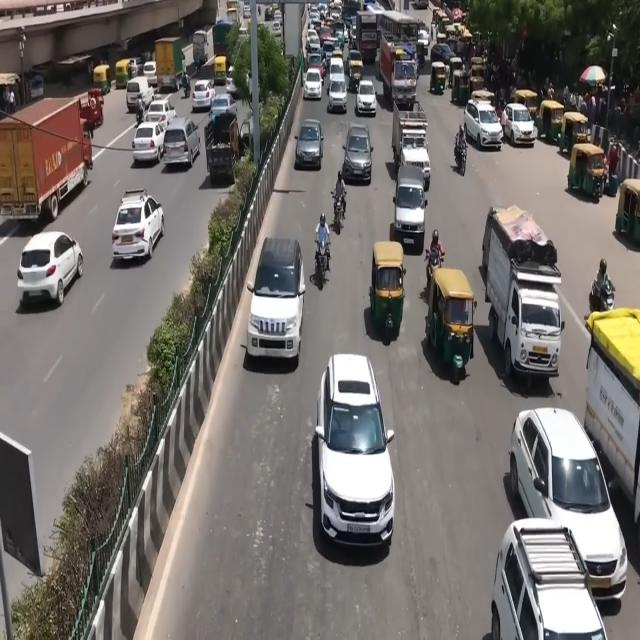auto: (423, 261, 474, 397), (366, 230, 411, 350), (567, 142, 606, 199), (615, 175, 640, 242), (558, 110, 590, 156), (536, 99, 565, 143), (451, 68, 471, 104), (430, 59, 448, 95), (470, 58, 487, 96), (92, 64, 110, 95), (115, 58, 133, 88), (448, 56, 463, 91), (213, 55, 227, 85)
bike-auto: (311, 205, 338, 302), (331, 169, 348, 250), (588, 272, 614, 314), (425, 231, 444, 285), (347, 48, 364, 88), (346, 59, 364, 96), (348, 58, 365, 96), (453, 139, 468, 176), (136, 95, 146, 125), (182, 71, 190, 98)
